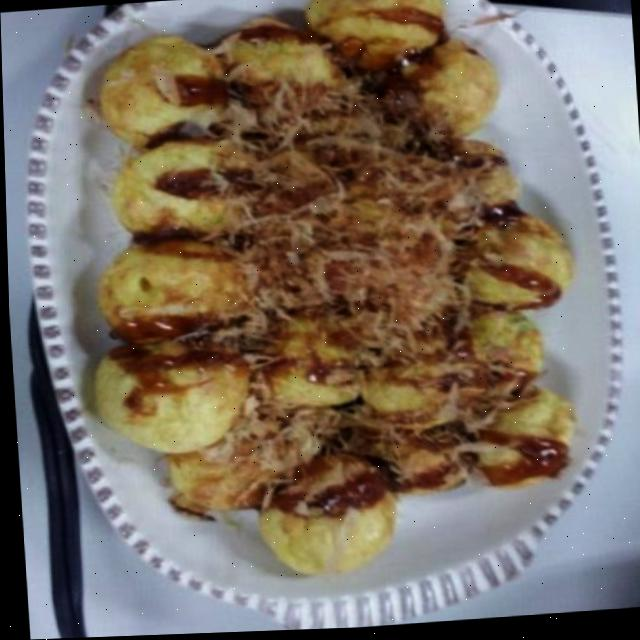炸货点心: (6, 0, 639, 640)
